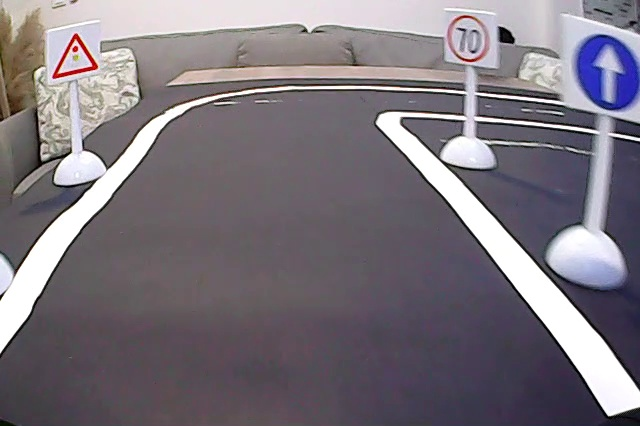red light: (50, 29, 101, 80)
speed limit 70: (447, 13, 493, 67)
